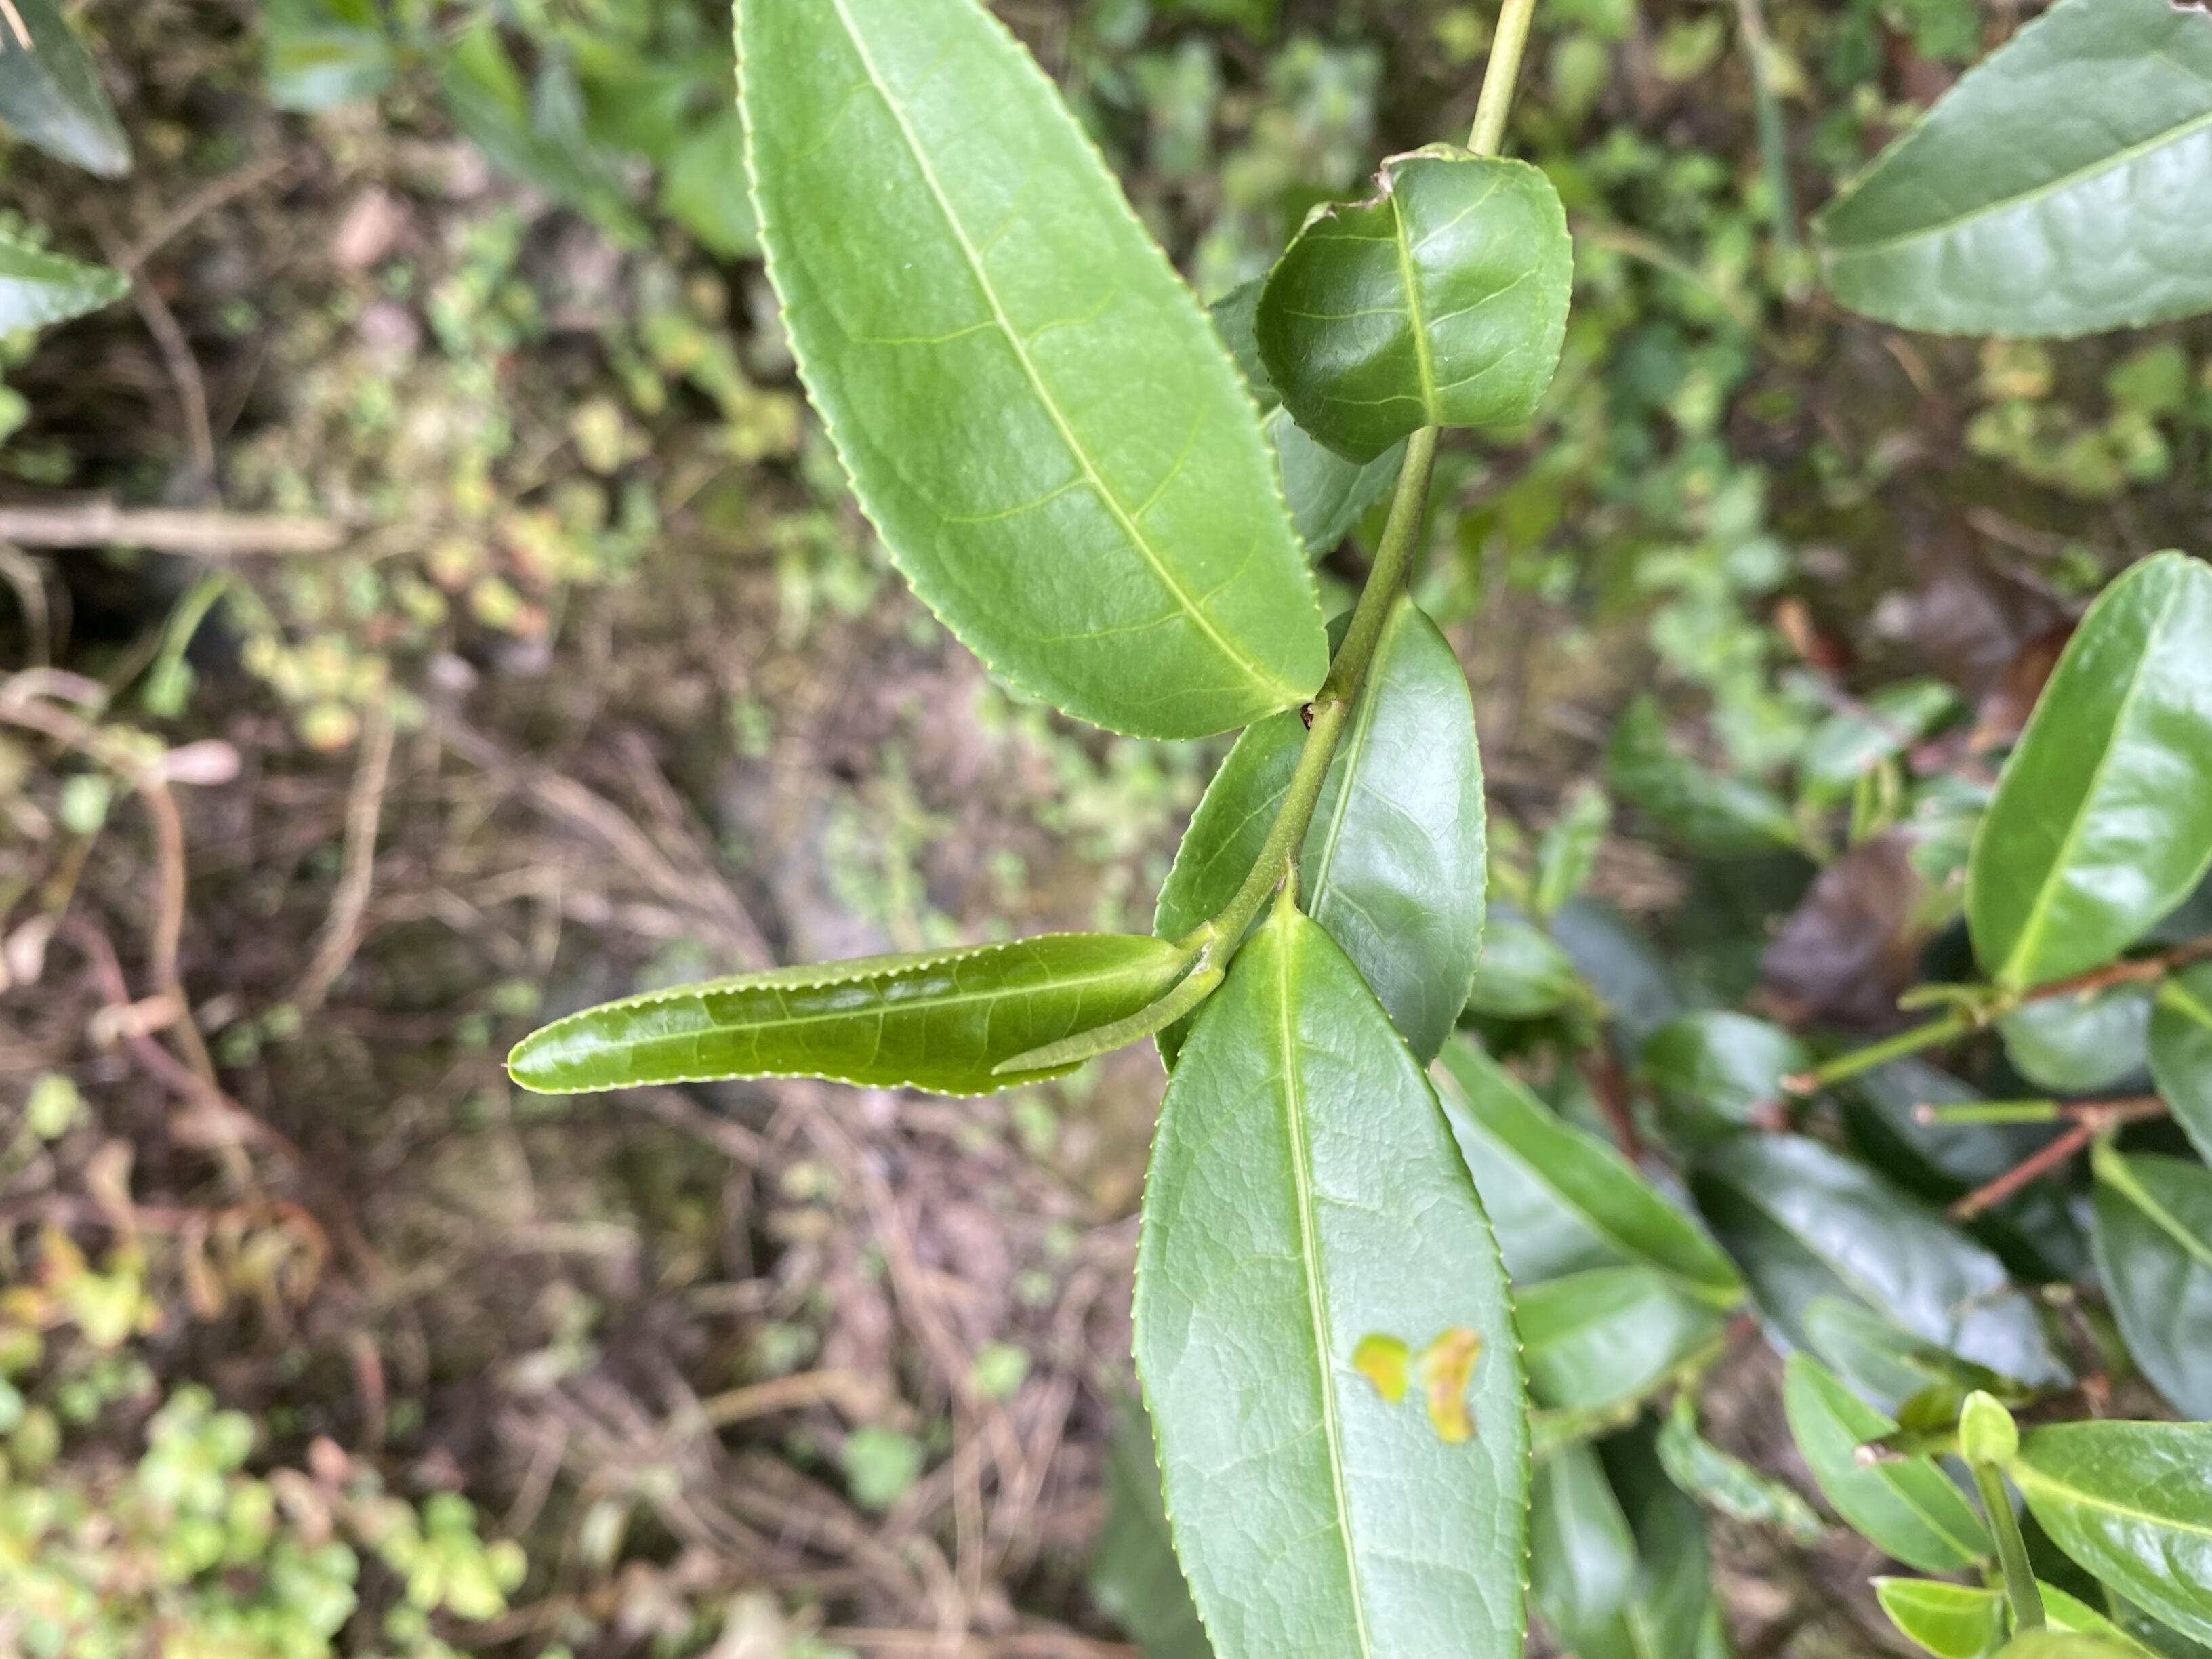chabing_high: (1125, 913, 1538, 1656)
chihuo_low: (1256, 143, 1573, 467)
healthy: (723, 0, 1332, 744), (507, 931, 1184, 1101)
